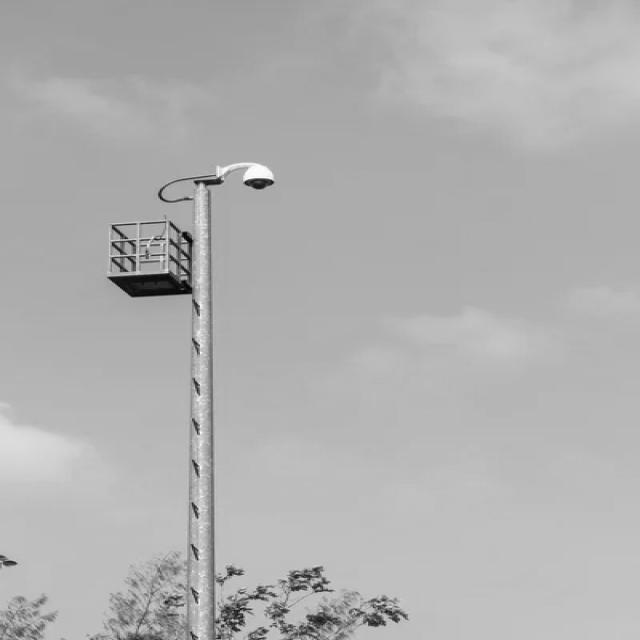Pole: (105, 162, 272, 640)
